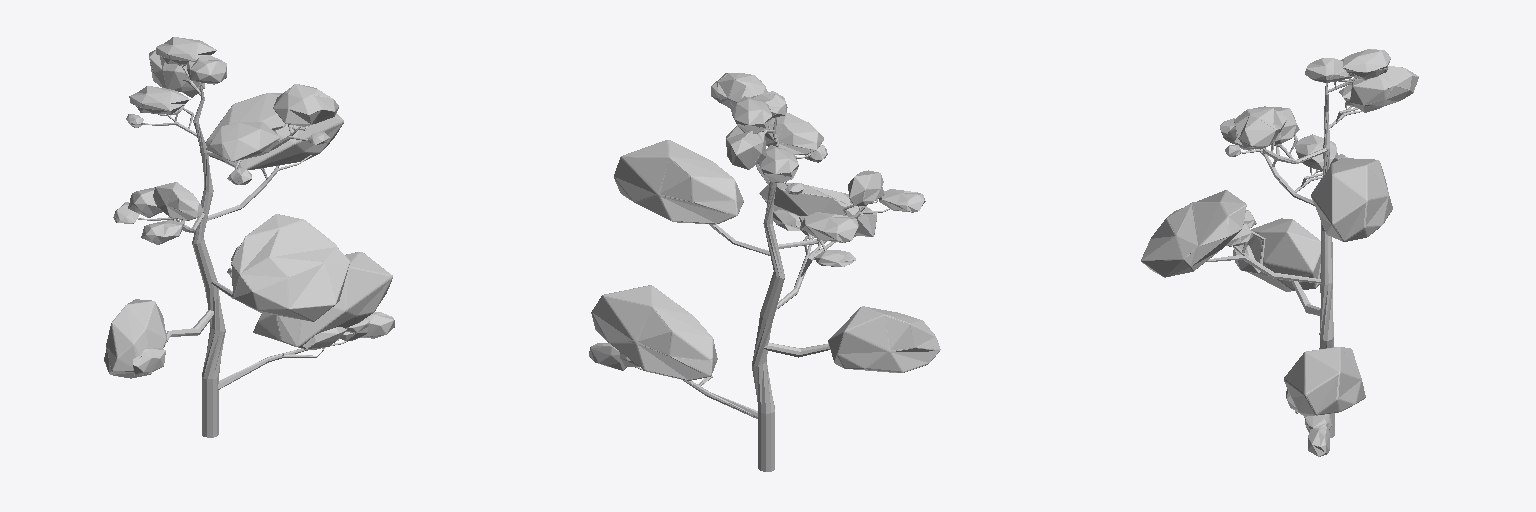
Rendered from tree_pr1.obj.
3 views of the same model, side by side, from view 1: azimuth 30°, elevation 25°; view 2: azimuth 150°, elevation 25°; view 3: azimuth 270°, elevation 25° (orthographic).
Visible parts, largest first — view 1: BRANCH1; view 2: BRANCH1; view 3: BRANCH1.
Part boxes in pixels (left/top/right/bottom): BRANCH1: left=104, top=37, right=394, bottom=437; BRANCH1: left=589, top=73, right=940, bottom=471; BRANCH1: left=1141, top=49, right=1418, bottom=456.
Size of the model in its own units: 10.53 by 12.09 by 8.02.